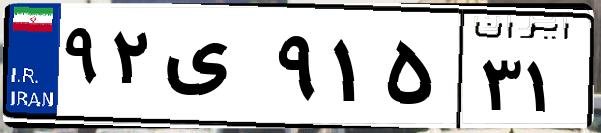1: (330, 28, 385, 110), (525, 38, 570, 115)
2: (110, 28, 158, 98)
3: (475, 38, 525, 113)
5: (385, 28, 445, 110)
9: (270, 28, 330, 110), (57, 26, 110, 100)
ی: (158, 20, 270, 120)
